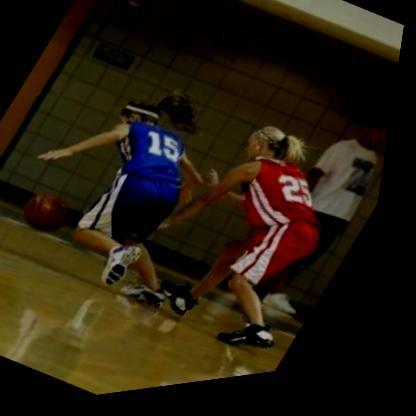basketball: (20, 182, 86, 243)
